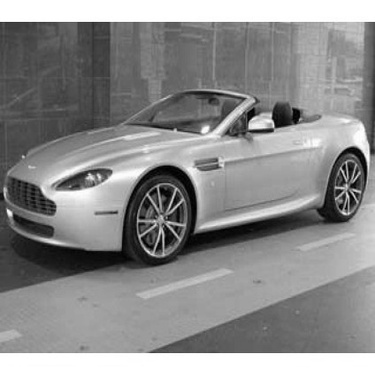car: (1, 82, 370, 269)
